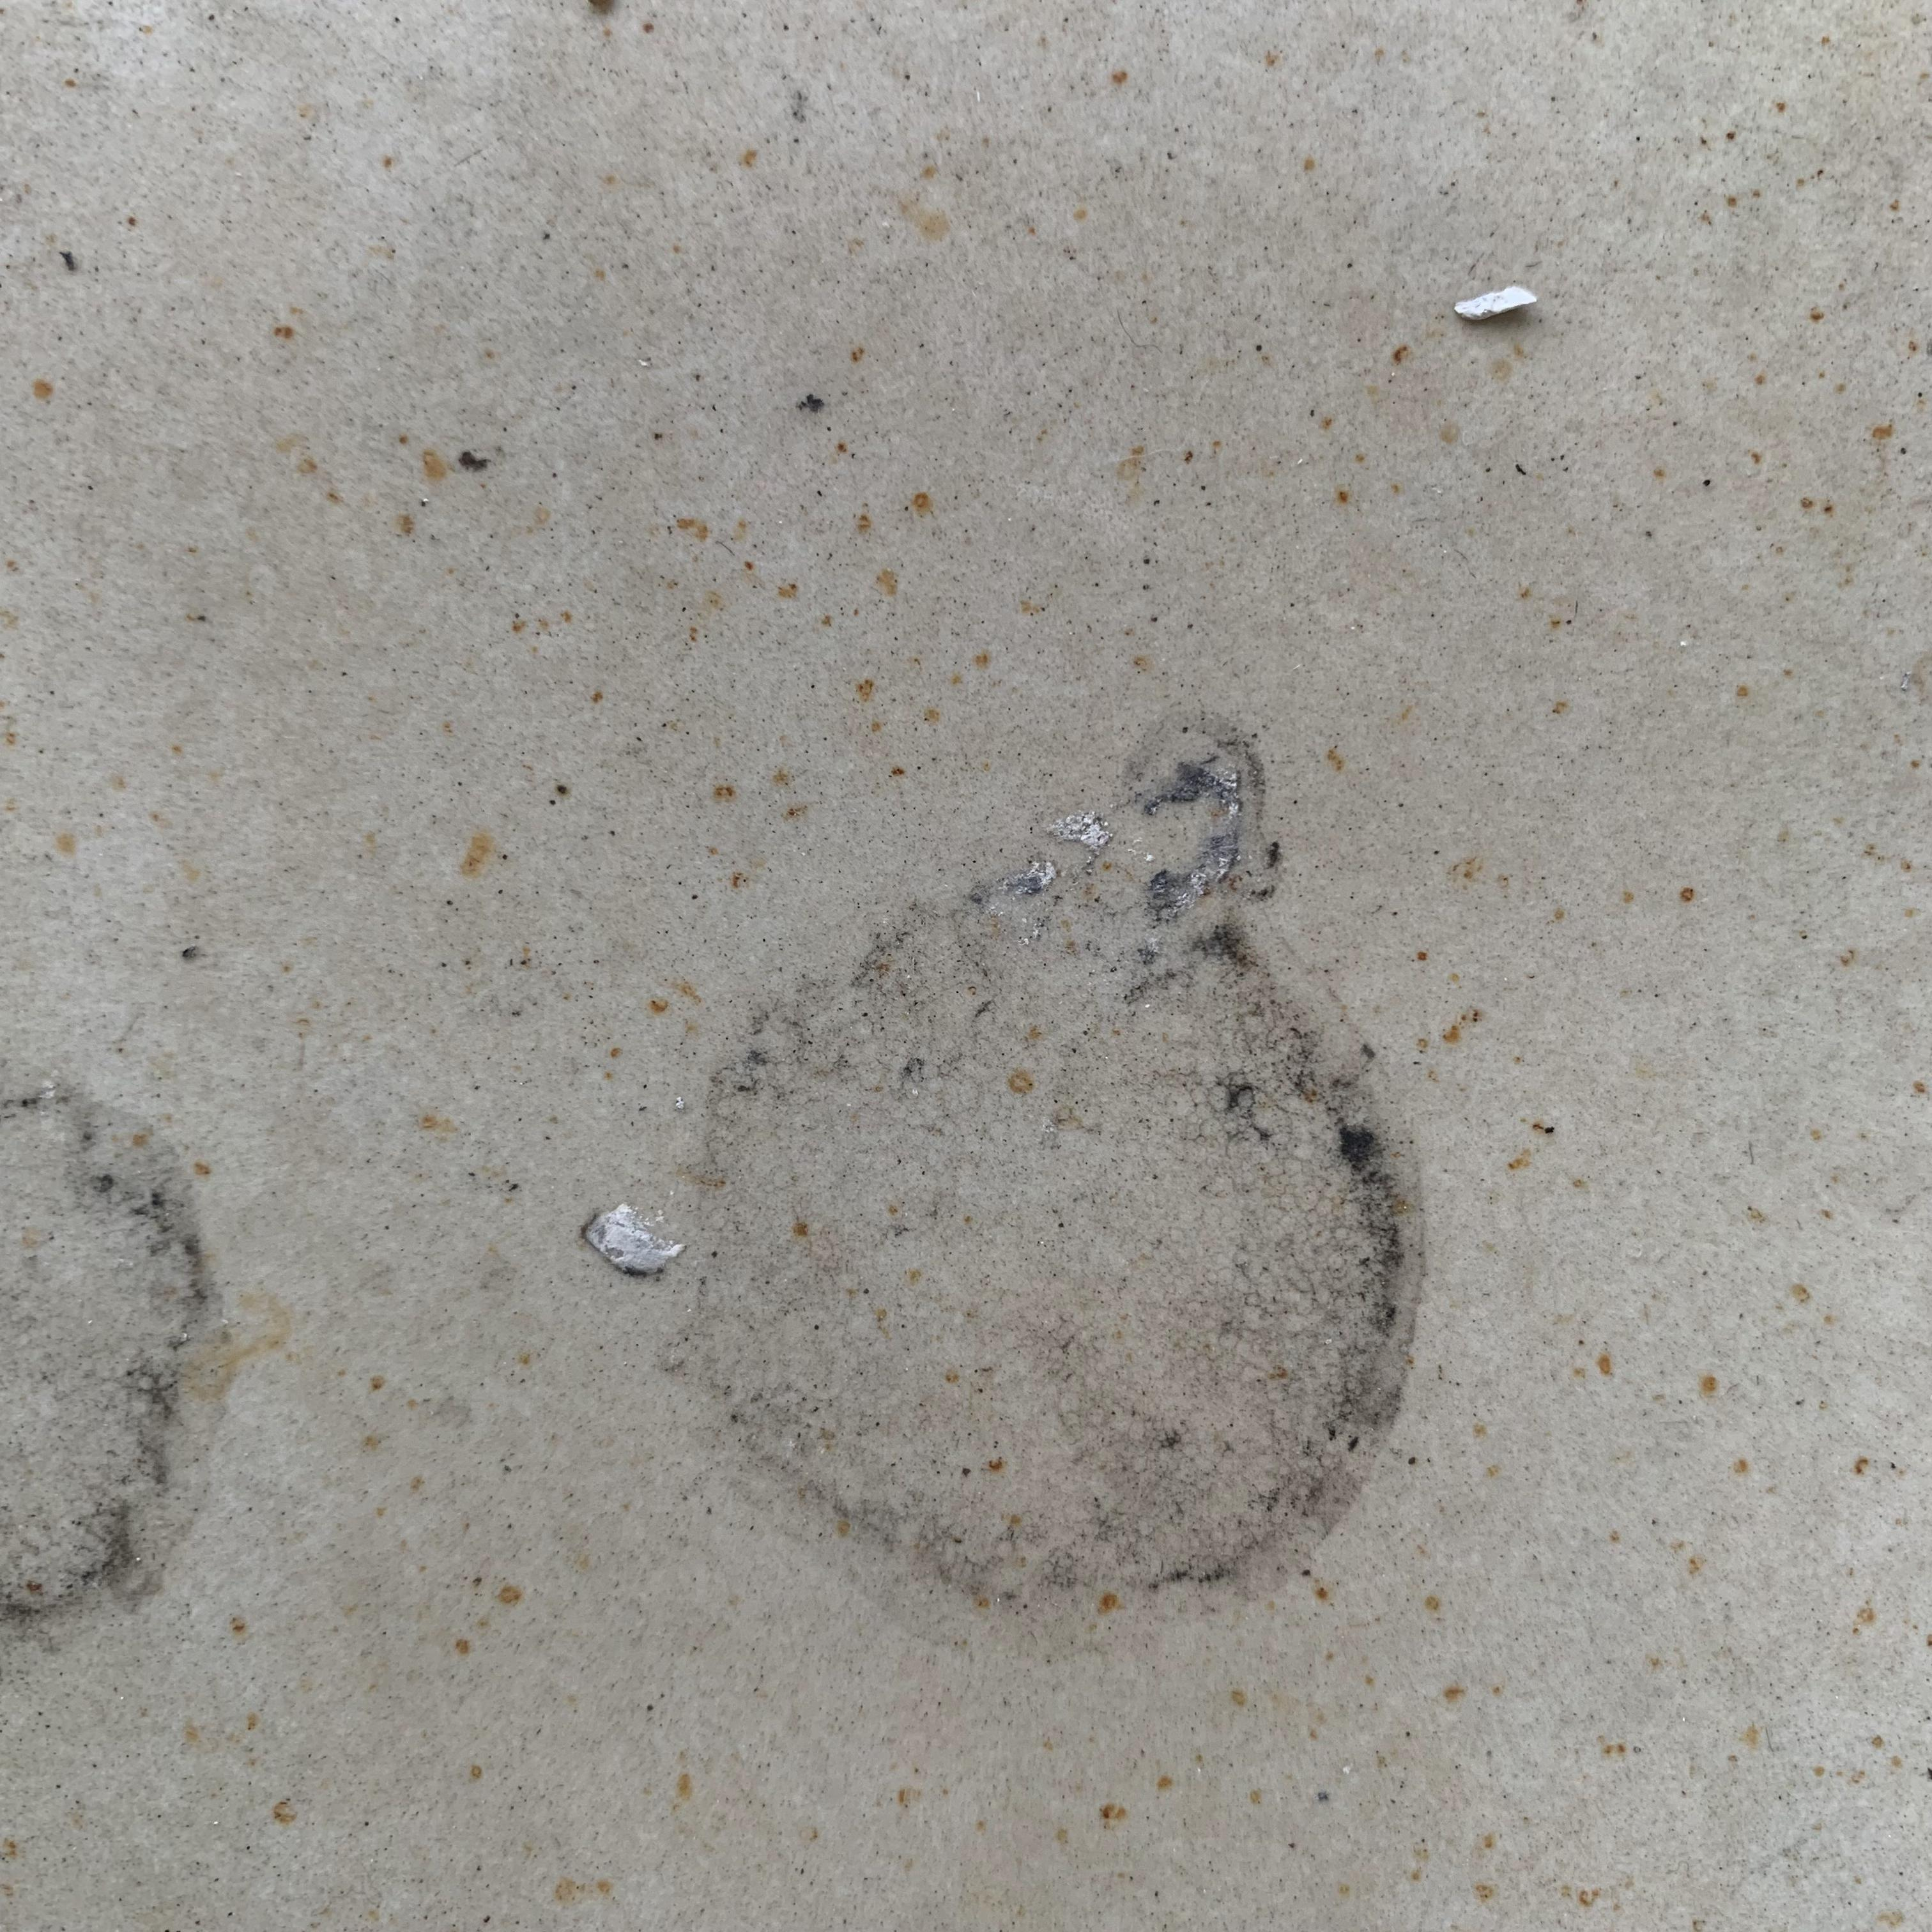grey spot: (685, 715, 1430, 1658), (0, 1085, 235, 1651)
